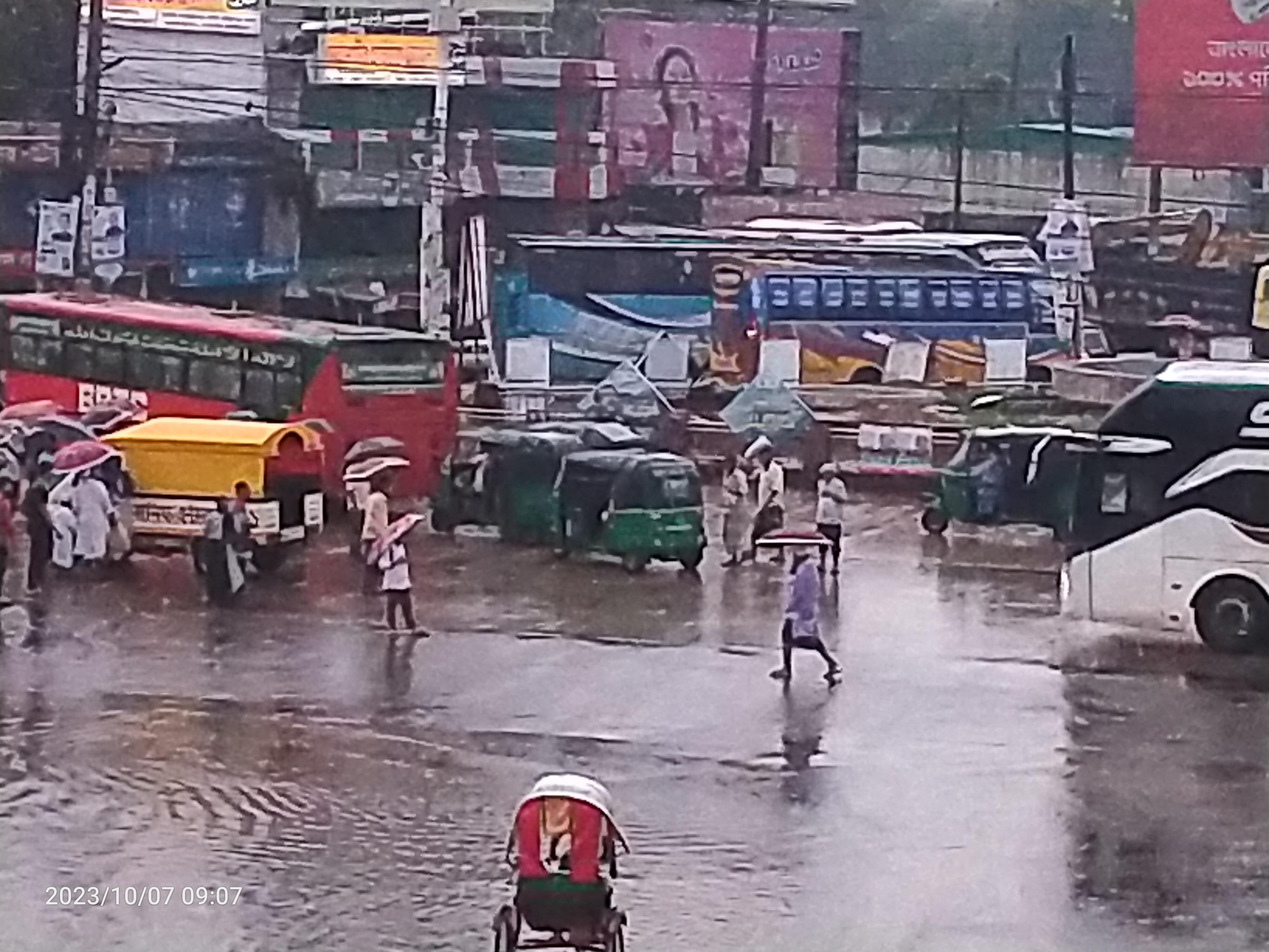Bus: (6, 272, 479, 547), (461, 201, 813, 461), (1050, 364, 1269, 656), (695, 252, 1068, 402)
Car: (65, 406, 345, 603), (450, 731, 681, 952)
